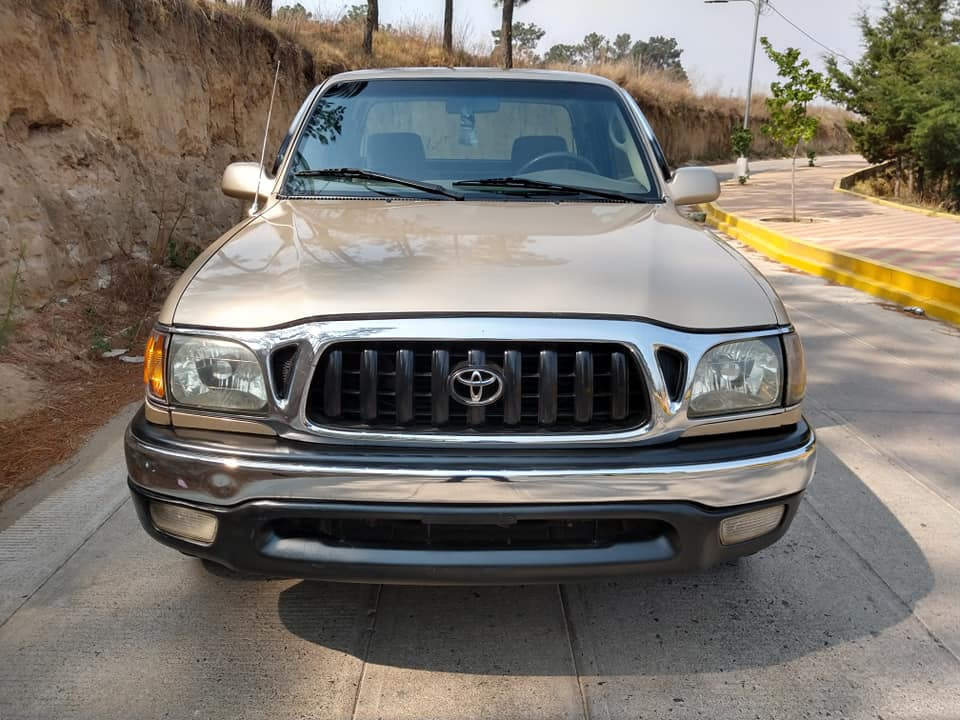pickup: (169, 61, 803, 585)
